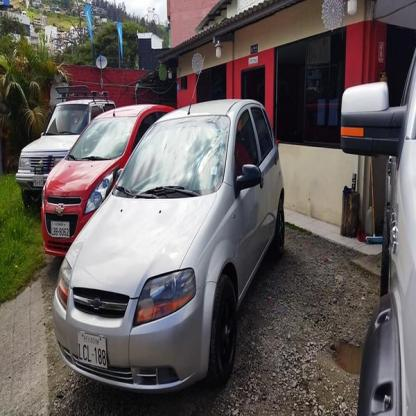Placa: (74, 328, 110, 372)
